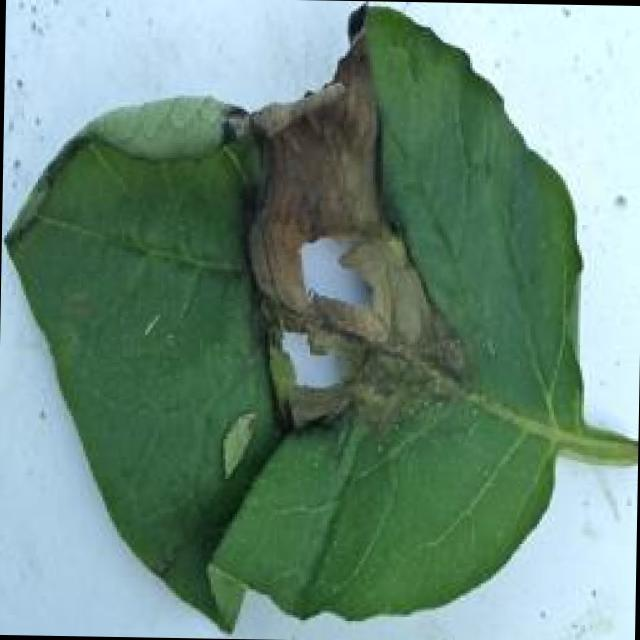Potato_Late_Blight: (0, 4, 639, 637)
